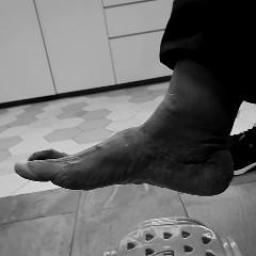Medial View -Right Foot-: (2, 83, 248, 208)
